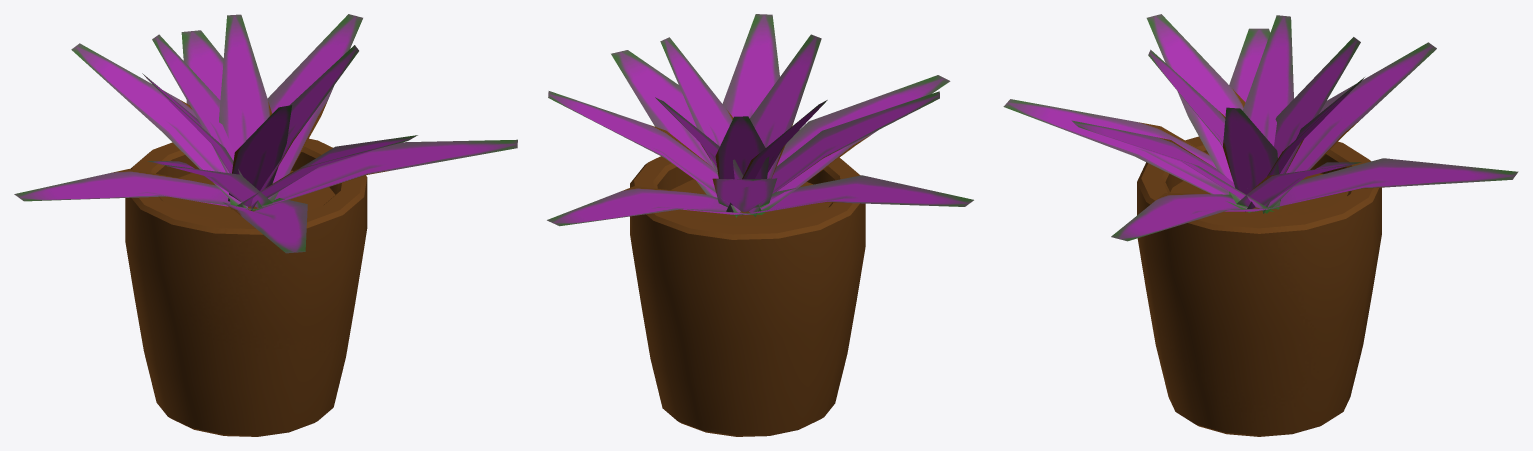
Rendered from PotPlant.fbx.
3 views of the same model, side by side, from view 1: azimuth 30°, elevation 25°; view 2: azimuth 150°, elevation 25°; view 3: azimuth 270°, elevation 25° (orthographic). The views are drawn at different scales.
Parts seen in each view (by area): view 1: pot_plant1; view 2: pot_plant1; view 3: pot_plant1.
Part boxes in pixels (left/top/right/bottom): pot_plant1: left=14, top=14, right=517, bottom=436; pot_plant1: left=547, top=14, right=973, bottom=436; pot_plant1: left=1003, top=14, right=1518, bottom=436.
Size of the model in its own units: 4.11 by 3.07 by 4.2.
